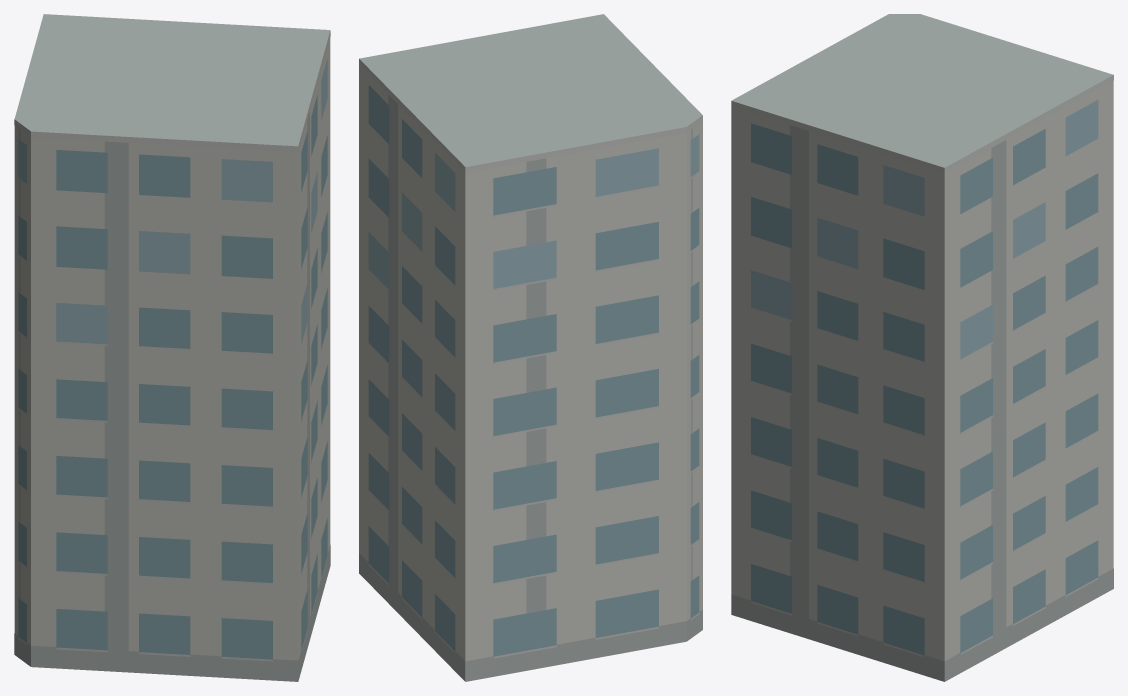
File: survey-upis-32699975.glb
3 views of the same model, side by side, from view 1: azimuth 30°, elevation 25°; view 2: azimuth 150°, elevation 25°; view 3: azimuth 270°, elevation 25° (orthographic). The views are drawn at different scales.
Visible parts, largest first — view 1: survey-upis-32699975.tmp; view 2: survey-upis-32699975.tmp; view 3: survey-upis-32699975.tmp.
Boxes of the visible parts, x1=… form: survey-upis-32699975.tmp: x1=14, y1=14, x2=330, y2=681; survey-upis-32699975.tmp: x1=359, y1=14, x2=702, y2=681; survey-upis-32699975.tmp: x1=731, y1=14, x2=1113, y2=681.
Size of the model in its own units: 13.82 by 21.5 by 14.51.
